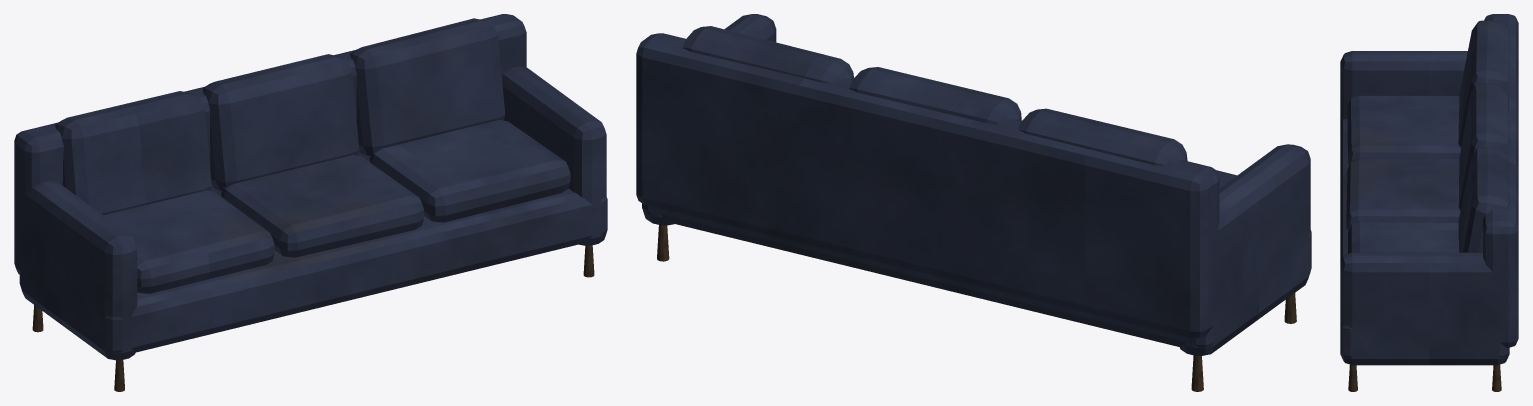
Rendered from L01_sofa_3seater_v2.glb.
3 renders of one model, left to right at view 1: azimuth 30°, elevation 25°; view 2: azimuth 150°, elevation 25°; view 3: azimuth 270°, elevation 25°, orthographic. The views are drawn at different scales.
Parts seen in each view (by area): view 1: L01_sofa_3seater_v2; view 2: L01_sofa_3seater_v2; view 3: L01_sofa_3seater_v2.
Boxes of the visible parts, x1=… form: L01_sofa_3seater_v2: x1=14, y1=14, x2=607, y2=391; L01_sofa_3seater_v2: x1=636, y1=14, x2=1311, y2=391; L01_sofa_3seater_v2: x1=1340, y1=14, x2=1518, y2=391.
Size of the model in its own units: 2 by 0.7874 by 0.702.
3 materials, 3 textured.
